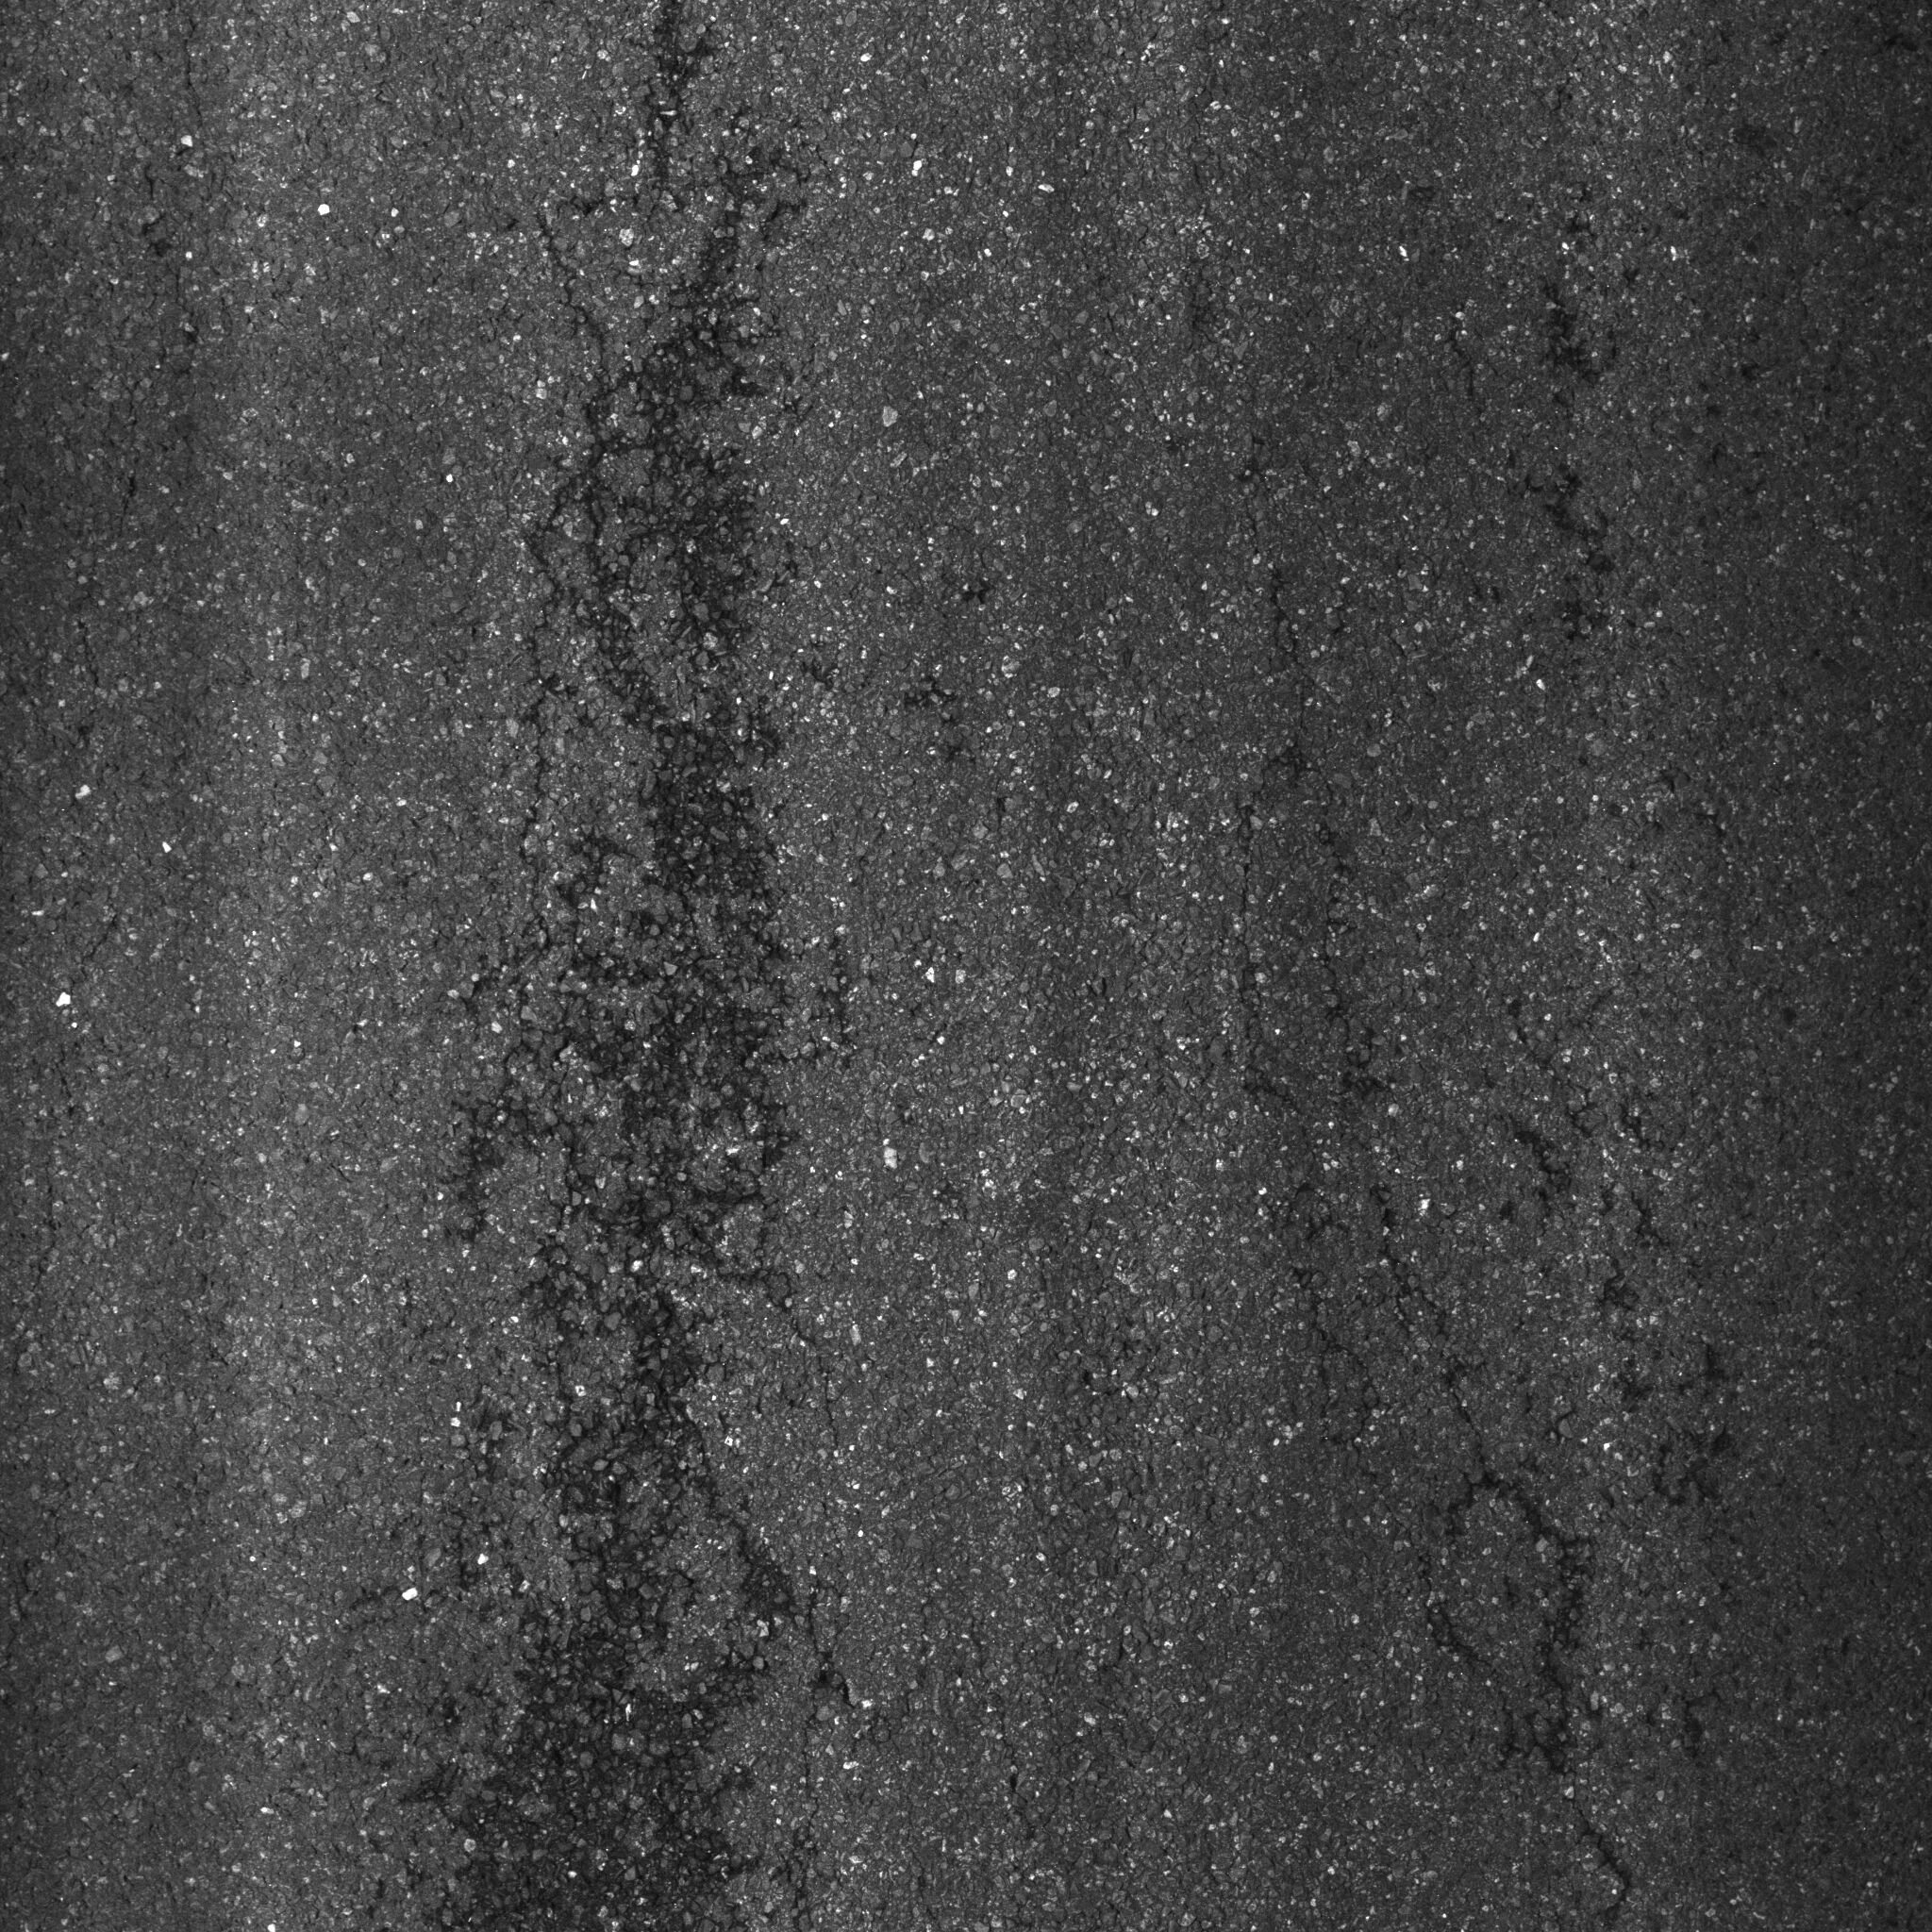alligator: (372, 7, 954, 1932), (1168, 671, 1771, 1930)
